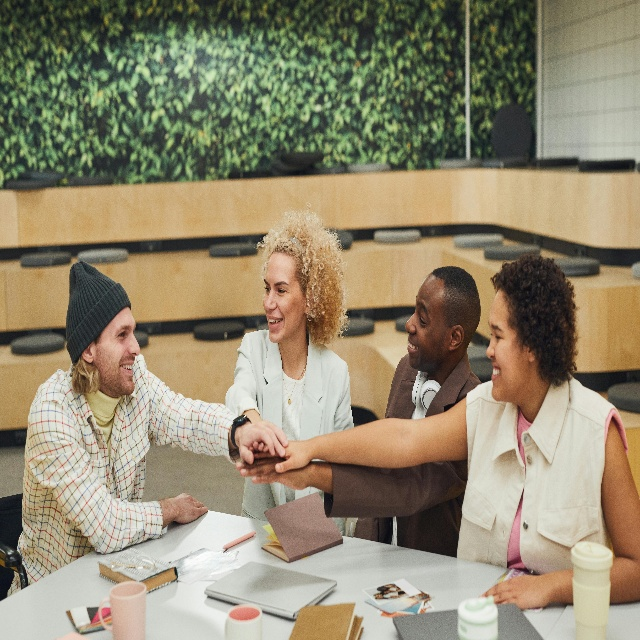Sin_guantes: (235, 456, 312, 491), (480, 573, 547, 610), (238, 419, 289, 465), (275, 439, 309, 474), (173, 492, 209, 524)
